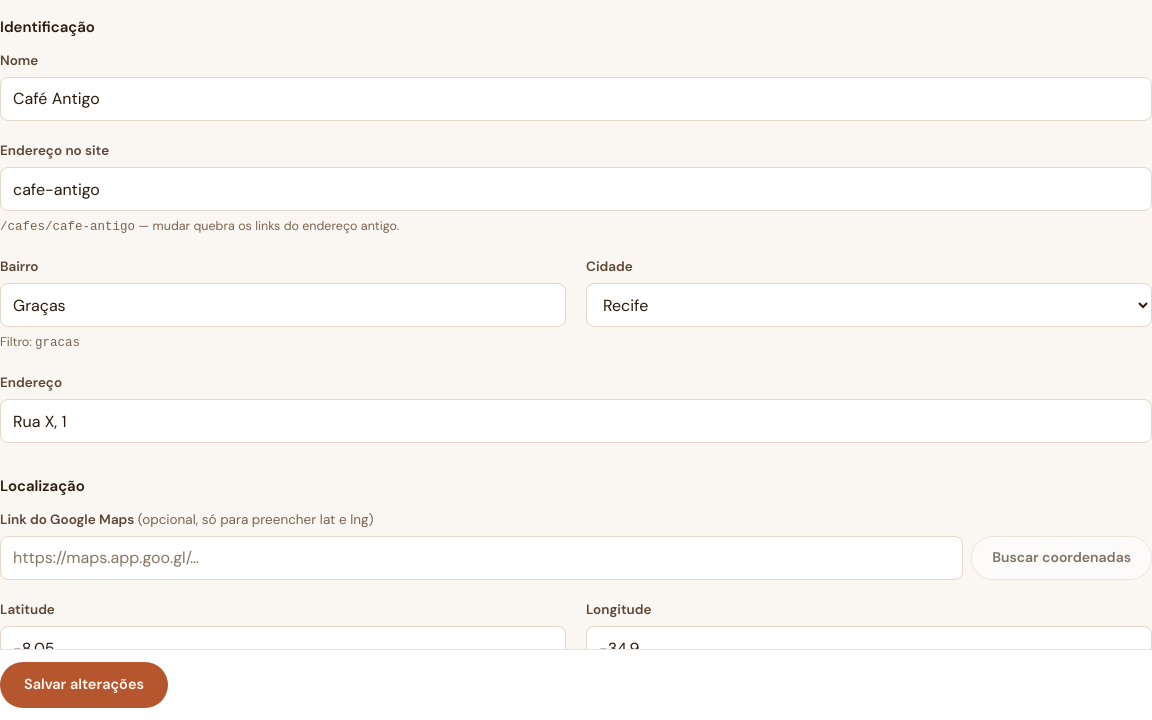
it: DadosCafeForm — endereço na edição (#155) › no ar, pede confirmação com o antigo e o novo; Cancelar não grava
Replace the text in the field labelled "Endereço no site" with "cafe-novo" at (576, 189), box [0,167,1151,211]
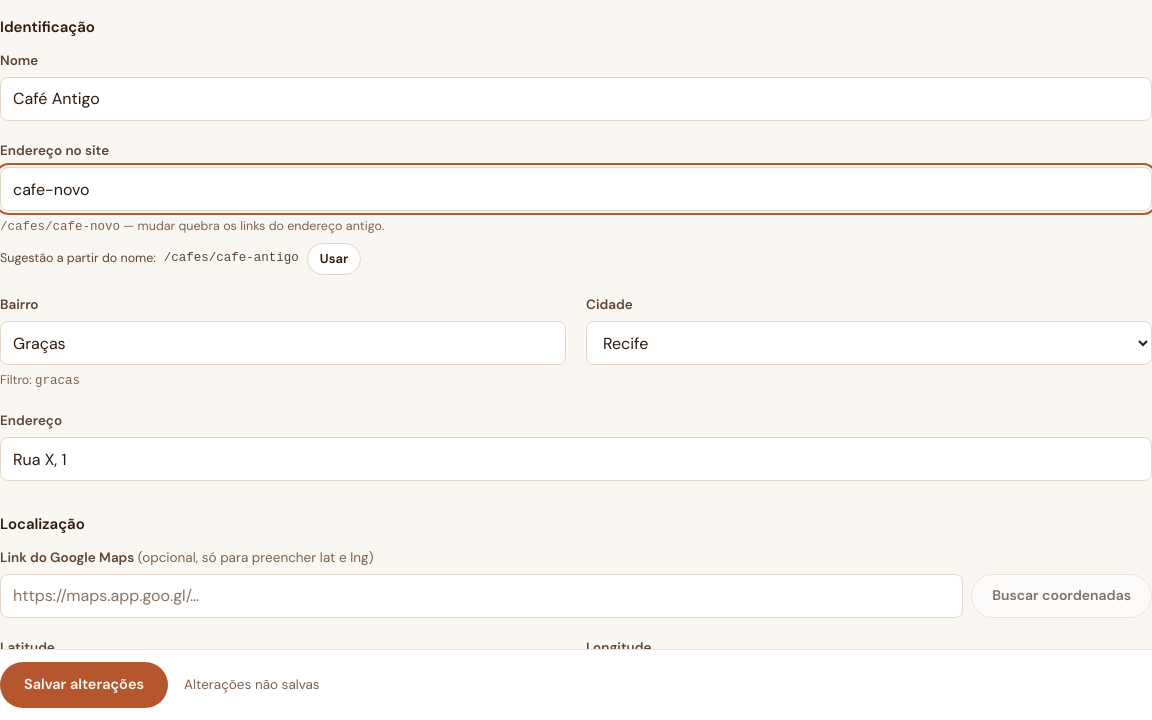
Click the button "Salvar alterações" at (84, 685), box [0,662,168,708]
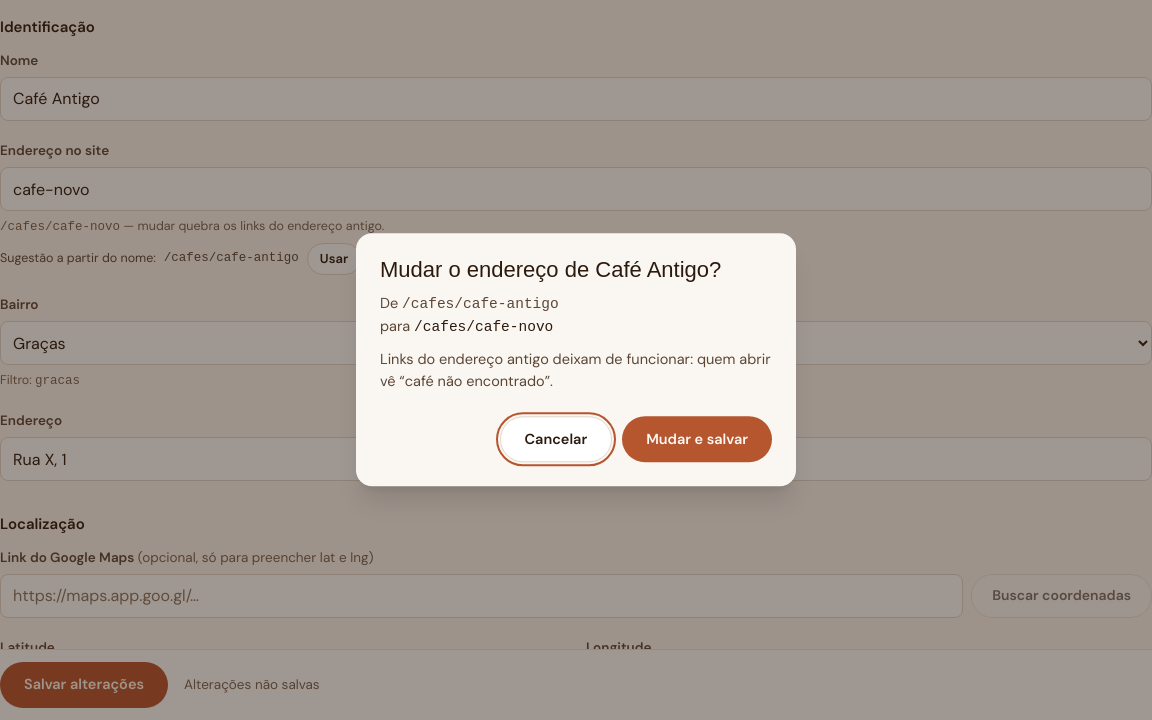
Expected: the dialog "Mudar o endereço de Café Antigo?" shows "/cafes/cafe-antigo", [356,233,796,487]
Expected: the dialog "Mudar o endereço de Café Antigo?" shows "/cafes/cafe-novo", [356,233,796,487]
Click the button "Cancelar" at (556, 440), box [500,417,612,463]
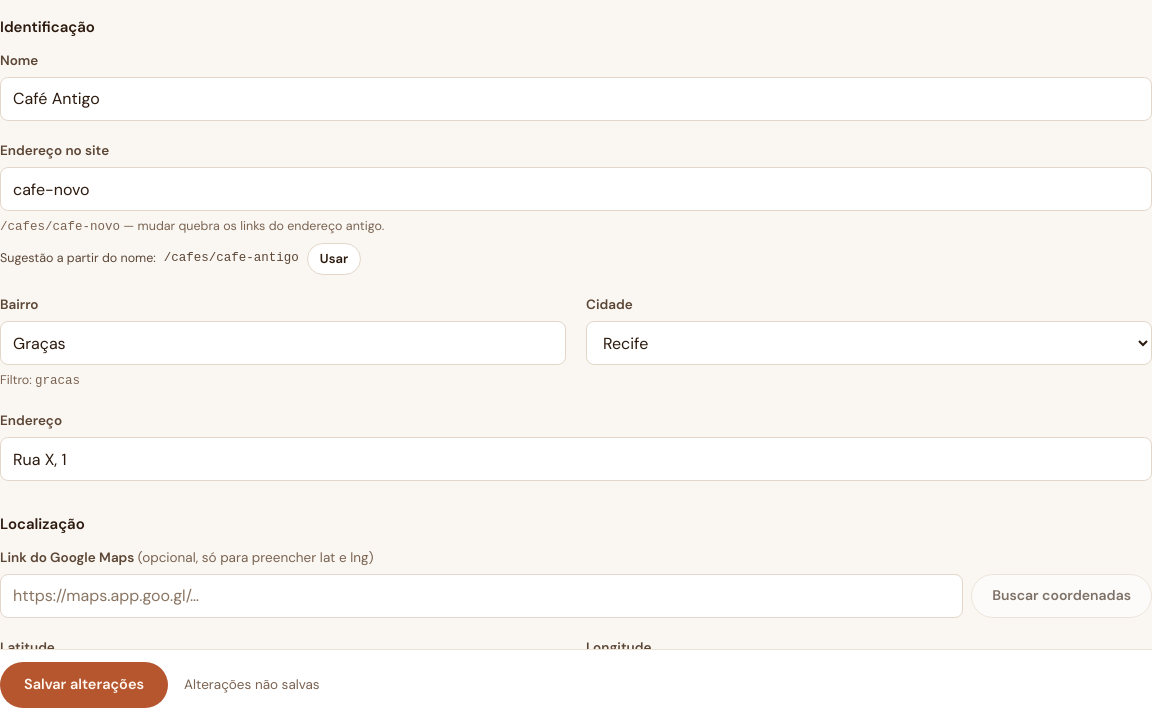
Expected: the dialog is gone
